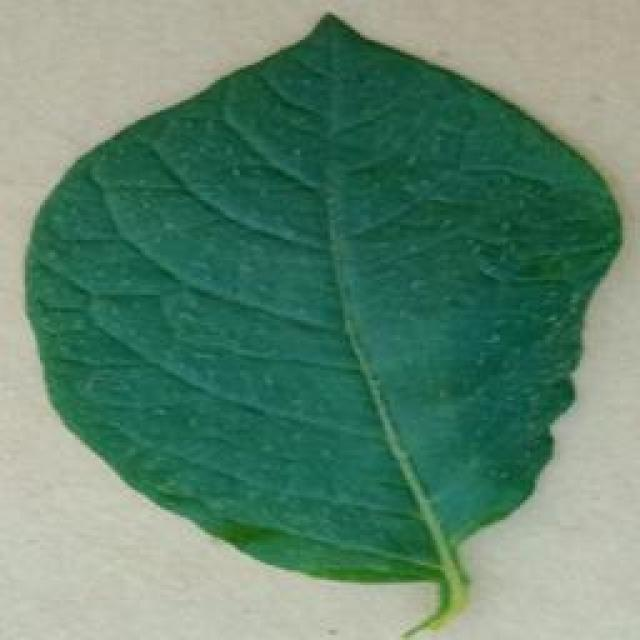Potato_Healthy: (21, 9, 618, 632)
